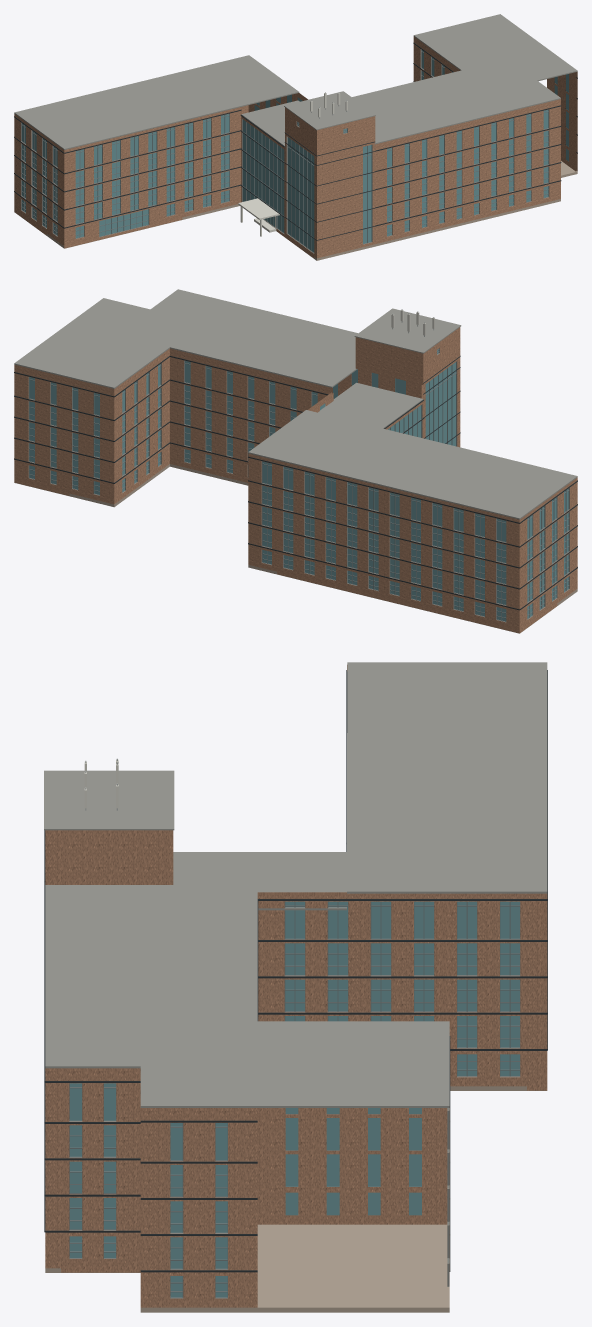
3 renders of one model, top to bottom at view 1: azimuth 30°, elevation 25°; view 2: azimuth 150°, elevation 25°; view 3: azimuth 270°, elevation 25°, orthographic. The views are drawn at different scales.
Visible parts, largest first — view 1: mirae__facade, mirae__rightRoof, mirae__windows, mirae__leftRoof, mirae__frame, mirae__linkGlass, mirae__reveal, mirae__towerSideGlass, mirae__leftLintels, mirae__towerCap, mirae__rightLintels, mirae__base (+6 smaller); view 2: mirae__facade, mirae__rightRoof, mirae__windows, mirae__leftRoof, mirae__frame, mirae__reveal, mirae__leftLintels, mirae__linkRoof, mirae__towerCap, mirae__rightLintels, mirae__towerSideGlass, mirae__base (+1 smaller); view 3: mirae__facade, mirae__rightRoof, mirae__leftRoof, mirae__windows, mirae__base, mirae__frame, mirae__towerCap, mirae__linkRoof, mirae__rightLintels, mirae__leftLintels, mirae__reveal.
Boxes of the visible parts, x1,y1,x2,y2 form: mirae__facade: [14, 36, 577, 258]; mirae__rightRoof: [352, 14, 577, 144]; mirae__windows: [22, 50, 568, 238]; mirae__leftRoof: [14, 55, 299, 149]; mirae__frame: [21, 49, 555, 253]; mirae__linkGlass: [243, 119, 284, 232]; mirae__reveal: [21, 49, 549, 253]; mirae__towerSideGlass: [288, 137, 314, 252]; mirae__leftLintels: [14, 99, 276, 228]; mirae__towerCap: [284, 91, 375, 130]; mirae__rightLintels: [375, 42, 577, 226]; mirae__base: [14, 161, 577, 260]; mirae__facade: [14, 327, 577, 633]; mirae__rightRoof: [14, 289, 357, 388]; mirae__windows: [29, 361, 568, 621]; mirae__leftRoof: [248, 410, 577, 519]; mirae__frame: [29, 348, 569, 621]; mirae__reveal: [28, 348, 569, 622]; mirae__leftLintels: [248, 456, 577, 610]; mirae__linkRoof: [318, 382, 423, 428]; mirae__towerCap: [354, 308, 461, 353]; mirae__rightLintels: [14, 356, 328, 483]; mirae__towerSideGlass: [425, 362, 455, 446]; mirae__base: [14, 464, 577, 633]; mirae__facade: [45, 665, 547, 1307]; mirae__rightRoof: [45, 884, 449, 1107]; mirae__leftRoof: [347, 662, 547, 893]; mirae__windows: [70, 901, 519, 1297]; mirae__base: [45, 1086, 546, 1312]; mirae__frame: [69, 901, 520, 1298]; mirae__towerCap: [44, 770, 174, 830]; mirae__linkRoof: [173, 852, 346, 910]; mirae__rightLintels: [44, 899, 450, 1272]; mirae__leftLintels: [258, 670, 547, 1050]; mirae__reveal: [69, 939, 519, 1298].
Size of the model in its own units: 101 by 31.22 by 47.92.
Materials: 9 (1 with a texture image).
